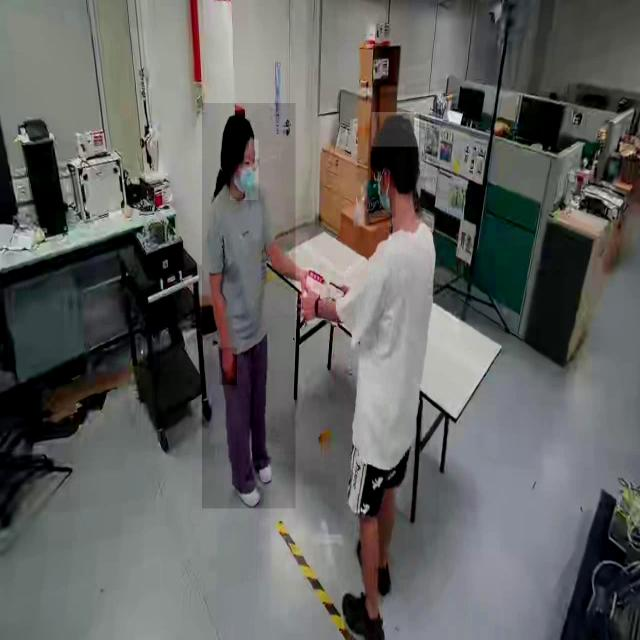face_mask: (370, 151, 396, 218), (230, 140, 258, 200)
hand_noglove: (298, 289, 320, 324), (219, 348, 237, 386), (300, 268, 314, 298)
head_nohelmet: (372, 112, 419, 148), (219, 113, 254, 139)
person: (304, 109, 433, 639), (202, 103, 296, 509)
shoes: (339, 585, 387, 640), (354, 536, 396, 595), (250, 434, 274, 493), (228, 468, 262, 509)
